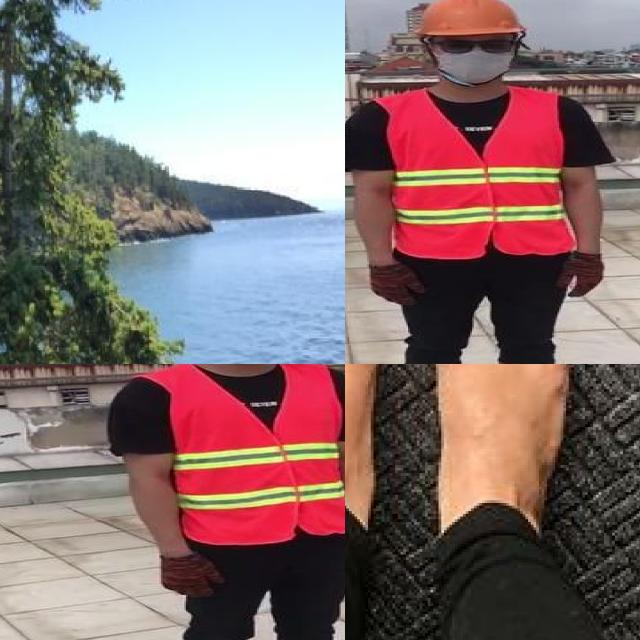Barefoots: (345, 364, 573, 556)
face_mask: (429, 31, 520, 82)
glasses: (431, 34, 522, 59)
hand_glove: (159, 552, 225, 597), (552, 251, 605, 298), (367, 265, 428, 305)
head_helmet: (345, 0, 631, 364), (410, 0, 529, 37)
vest: (162, 364, 345, 543), (378, 91, 572, 256)
